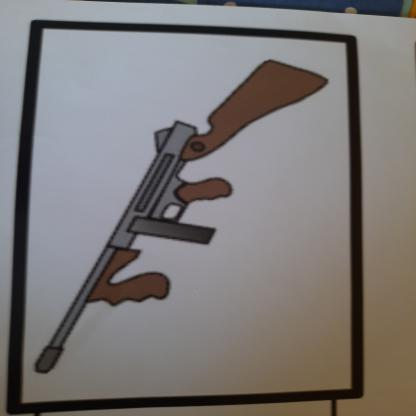Bootlegger: (26, 49, 339, 383)
